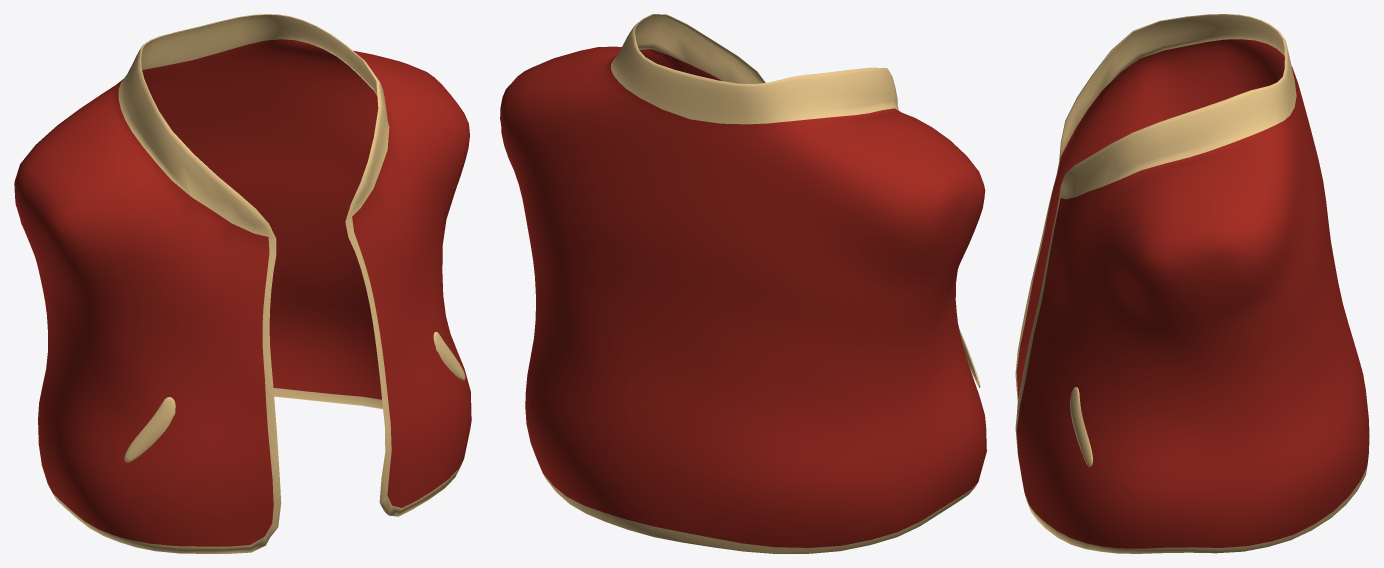
File: layer_lowrider.glb
3 views of the same model, side by side, from view 1: azimuth 30°, elevation 25°; view 2: azimuth 150°, elevation 25°; view 3: azimuth 270°, elevation 25° (orthographic). The views are drawn at different scales.
Parts seen in each view (by area): view 1: jacket_lowrider; view 2: jacket_lowrider; view 3: jacket_lowrider.
Boxes of the visible parts, x1,y1,x2,y2 form: jacket_lowrider: [14, 14, 471, 553]; jacket_lowrider: [500, 14, 986, 553]; jacket_lowrider: [1015, 14, 1369, 553].
Size of the model in its own units: 0.4658 by 0.4464 by 0.3387.
